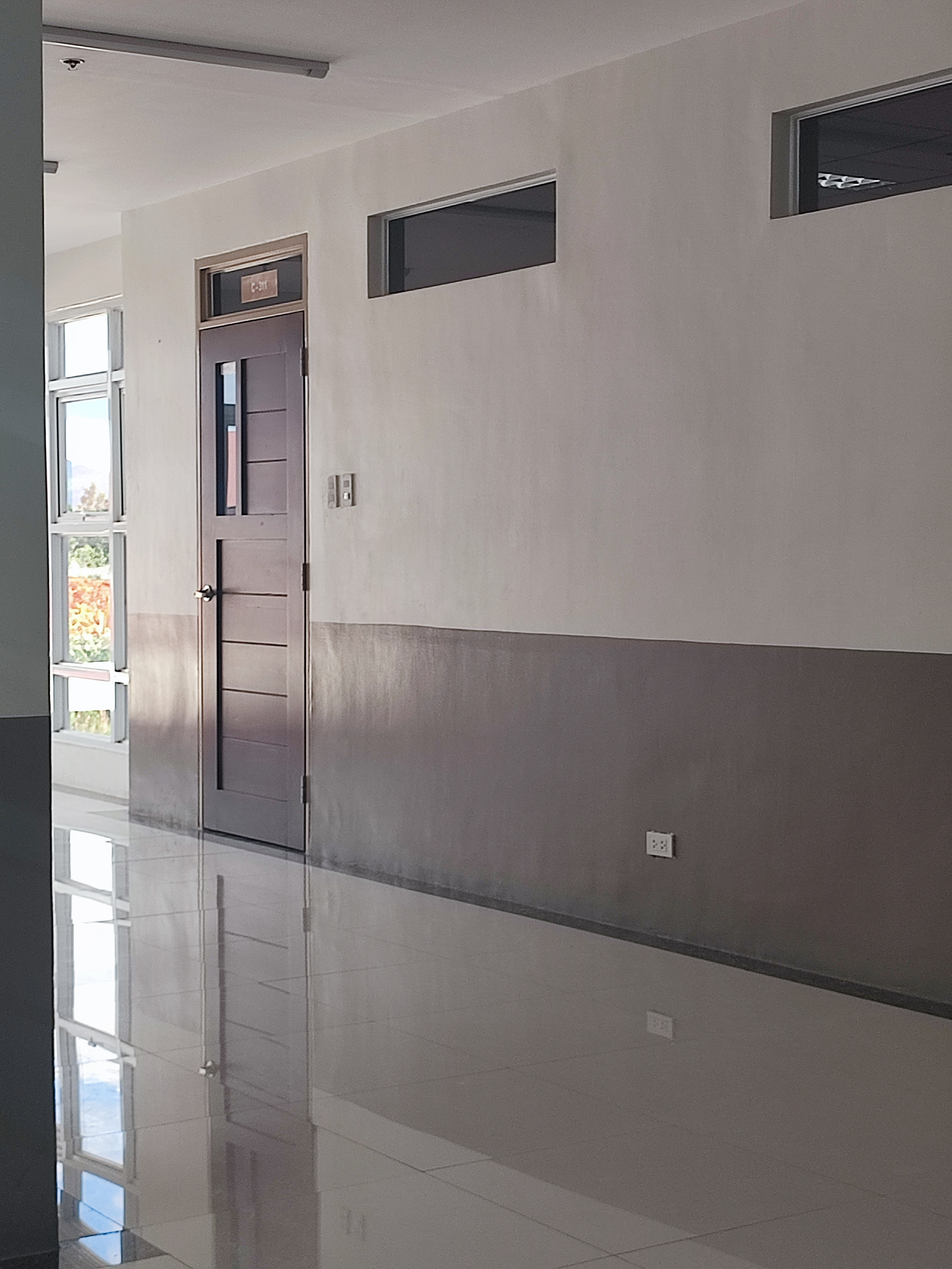door: (192, 235, 310, 857)
